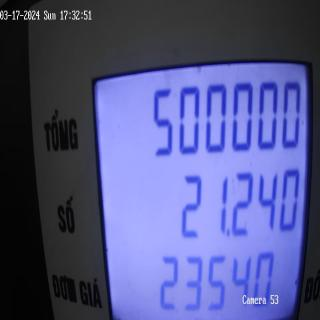screen: (87, 45, 316, 320)
